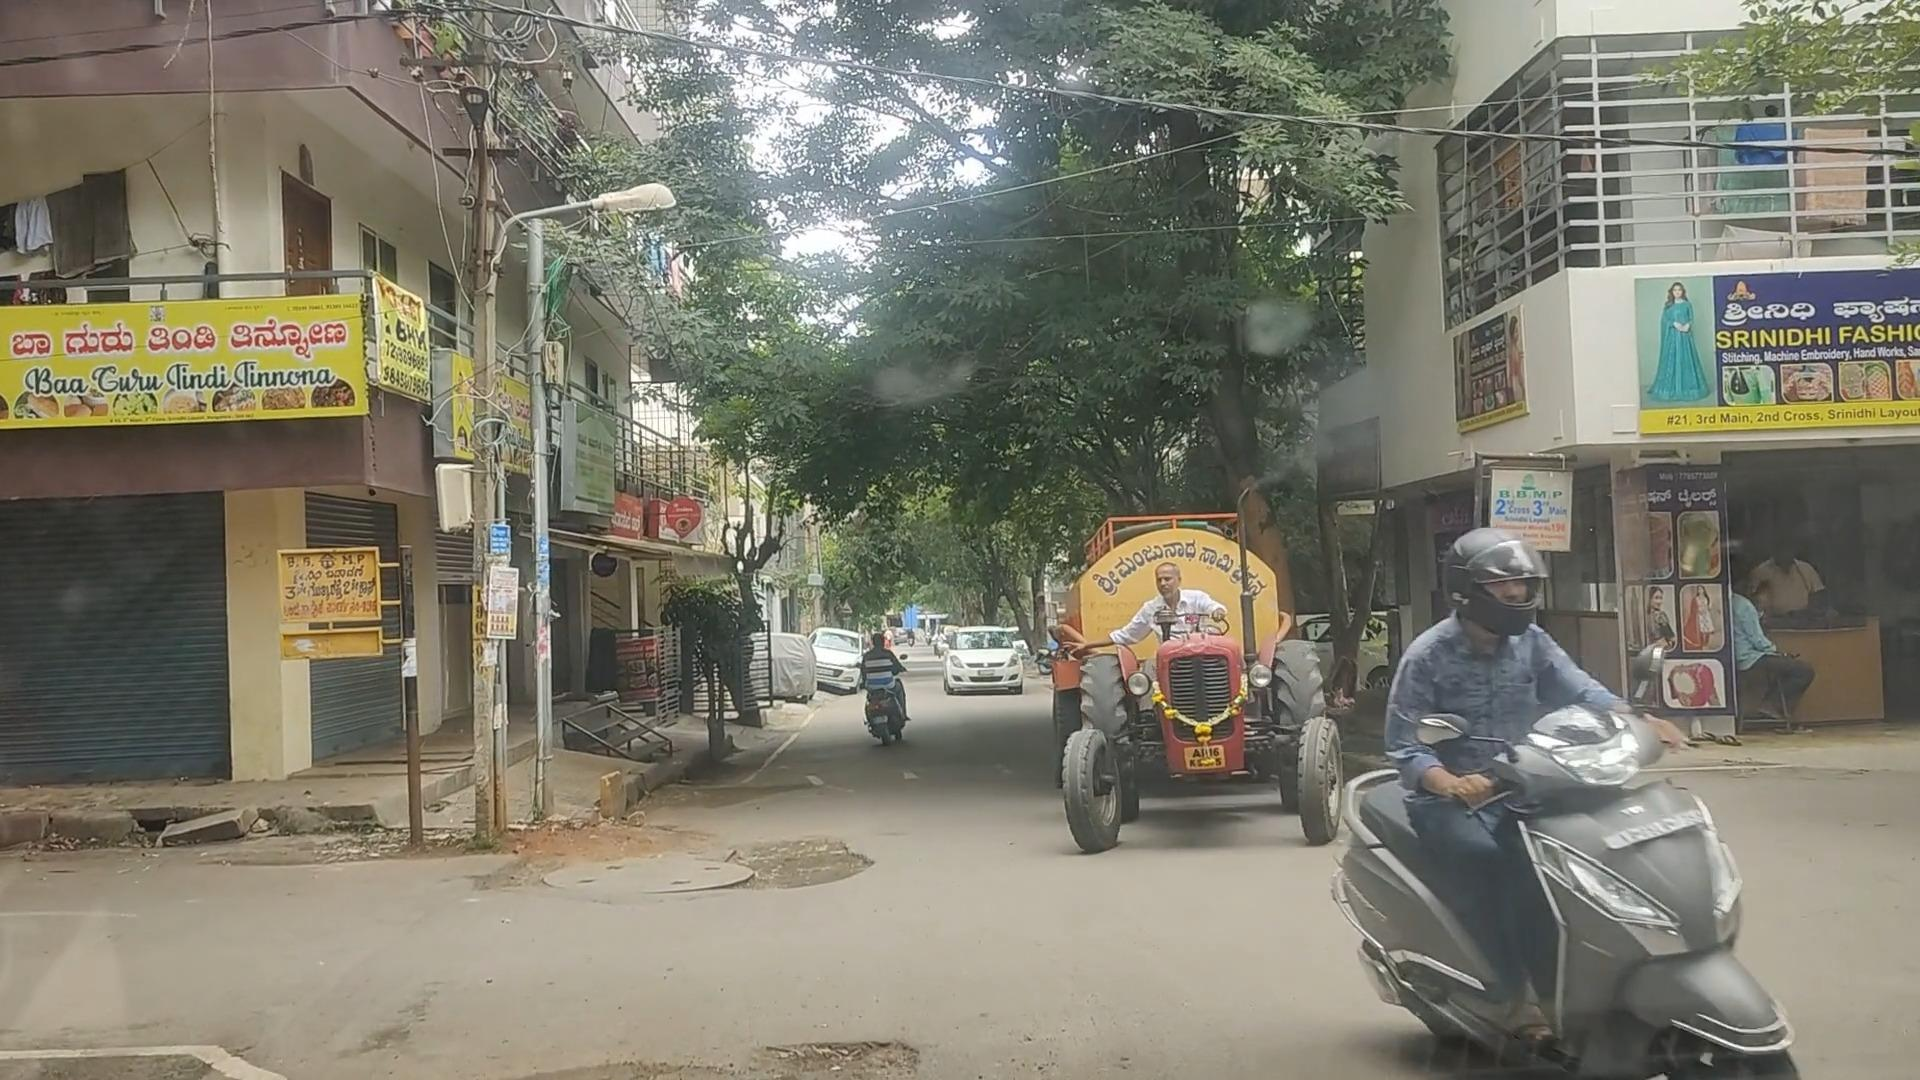HMV: (1006, 480, 1341, 876)
LMV: (1278, 480, 1829, 1080)
RoadDamages: (535, 818, 915, 944), (644, 1023, 938, 1080)
